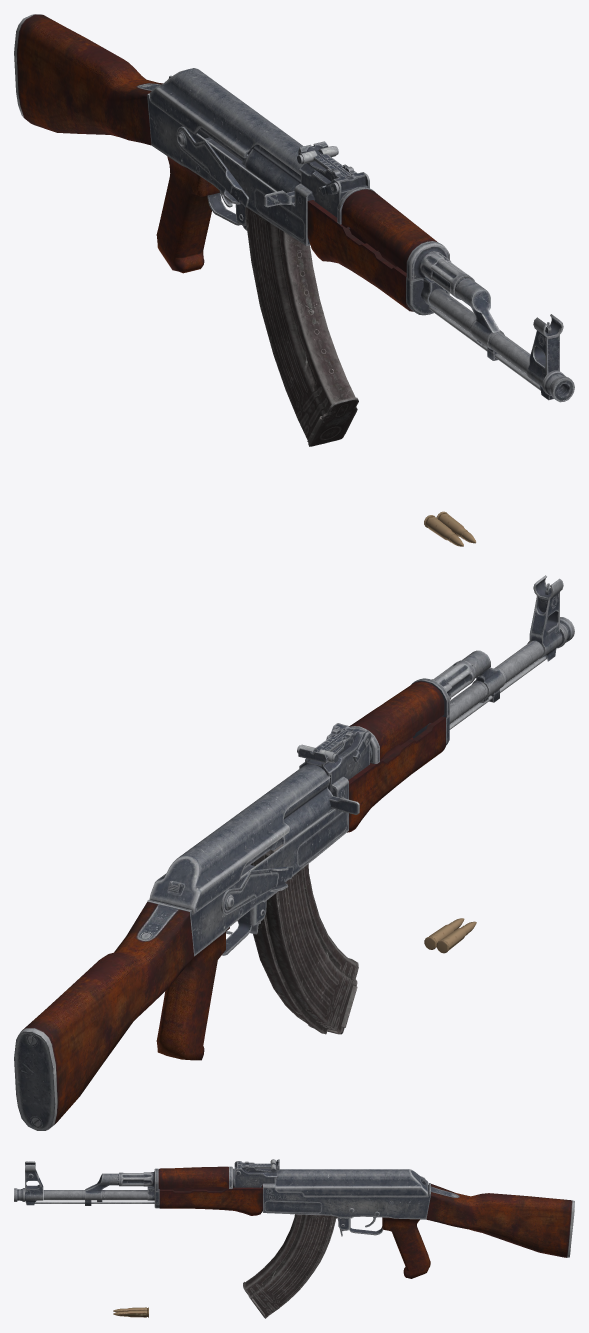
3 renders of one model, top to bottom at view 1: azimuth 30°, elevation 25°; view 2: azimuth 150°, elevation 25°; view 3: azimuth 270°, elevation 25°, orthographic. The views are drawn at different scales.
Visible parts, largest first — view 1: m_gun, m_mag, m_shelleject, m_fireselect, m_bullet; view 2: m_gun, m_mag, m_shelleject, m_fireselect, m_bullet; view 3: m_gun, m_mag, m_bullet.
Part boxes in pixels (x1,y1,x2,y2): m_gun: (14,14,574,402); m_mag: (245,207,358,446); m_shelleject: (245,144,300,207); m_fireselect: (176,126,249,207); m_bullet: (424,511,476,546); m_gun: (14,575,574,1130); m_mag: (253,844,358,1034); m_shelleject: (282,778,359,844); m_fireselect: (221,866,293,914); m_bullet: (424,918,476,953); m_gun: (14,1159,574,1278); m_mag: (243,1214,335,1318); m_bullet: (113,1307,148,1317).
Size of the model in its own units: 6.66 by 26.53 by 87.92.
1 material, 1 textured.
